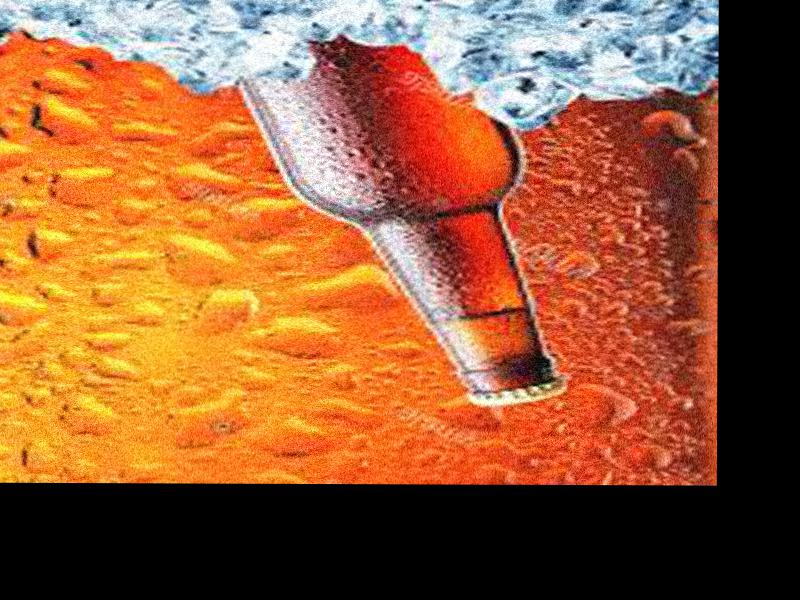Beer: (242, 33, 585, 407)
